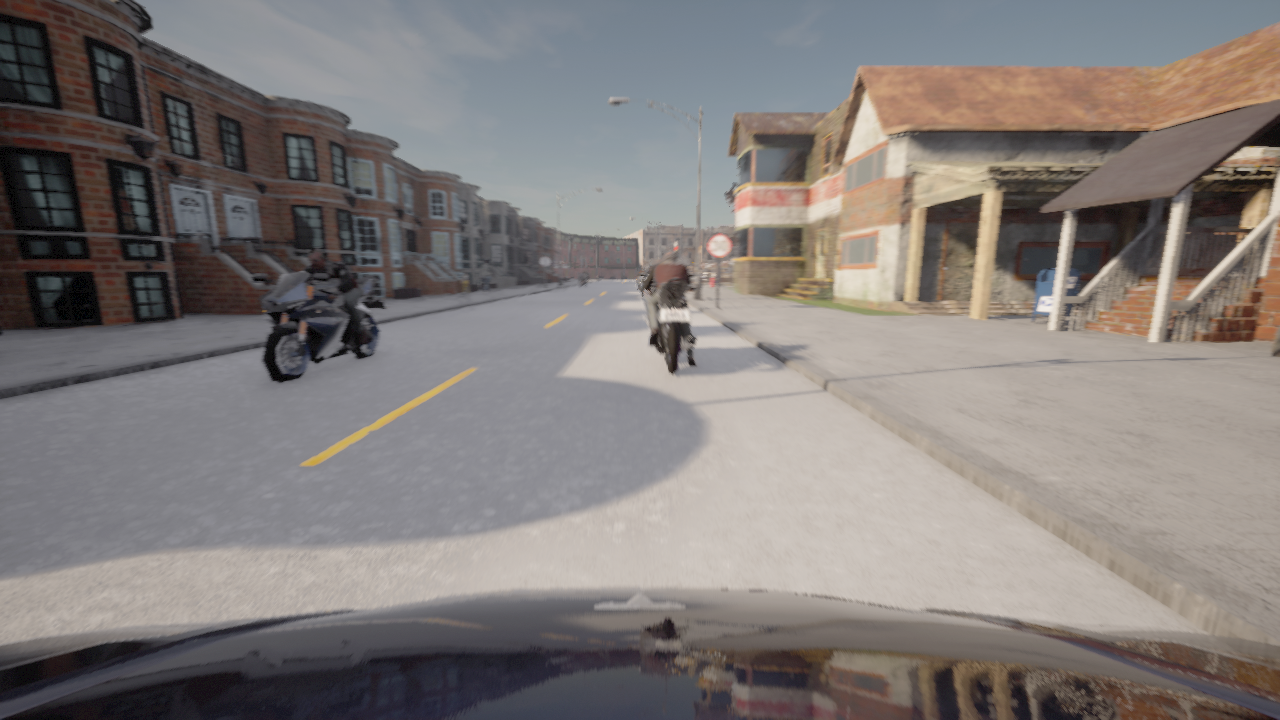cyclist: (0, 588, 1279, 719), (251, 271, 387, 382), (638, 274, 697, 375), (641, 284, 648, 311), (578, 273, 589, 287), (639, 280, 643, 297), (701, 279, 710, 284)
pedestrian: (479, 260, 494, 294), (462, 272, 469, 294)
